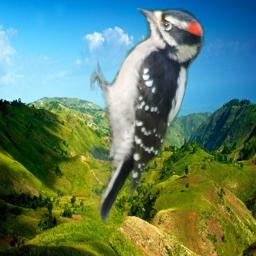Woodpecker: (90, 1, 207, 226)
